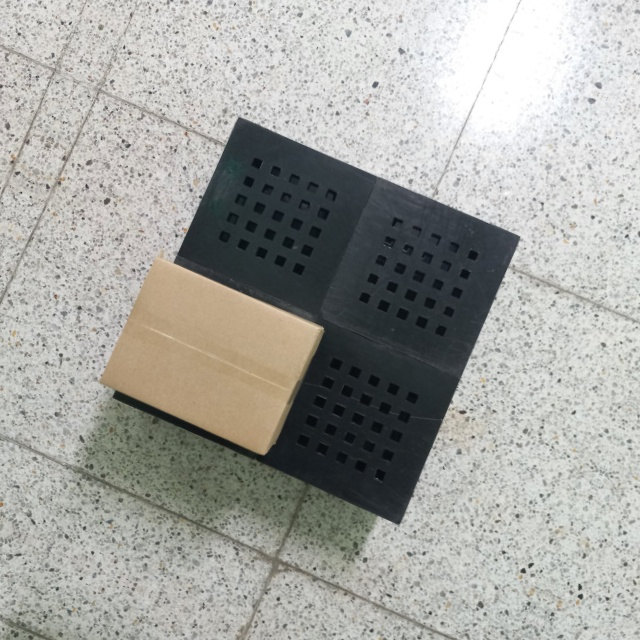box: (95, 251, 324, 461)
pallet: (88, 105, 532, 546)
